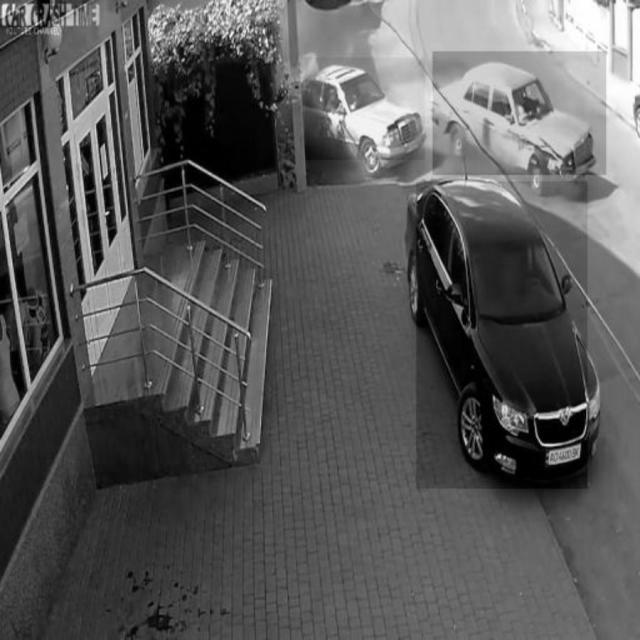vehicle: (417, 182, 587, 489), (432, 51, 606, 175), (305, 58, 425, 160)
